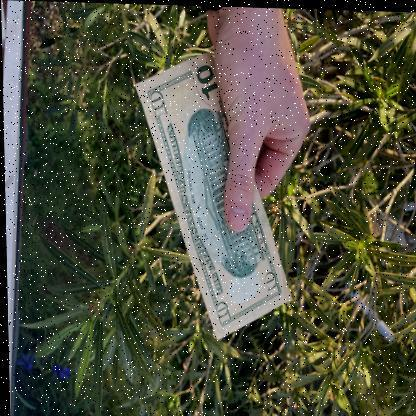ten-back: (133, 50, 290, 339), (34, 200, 157, 391)
